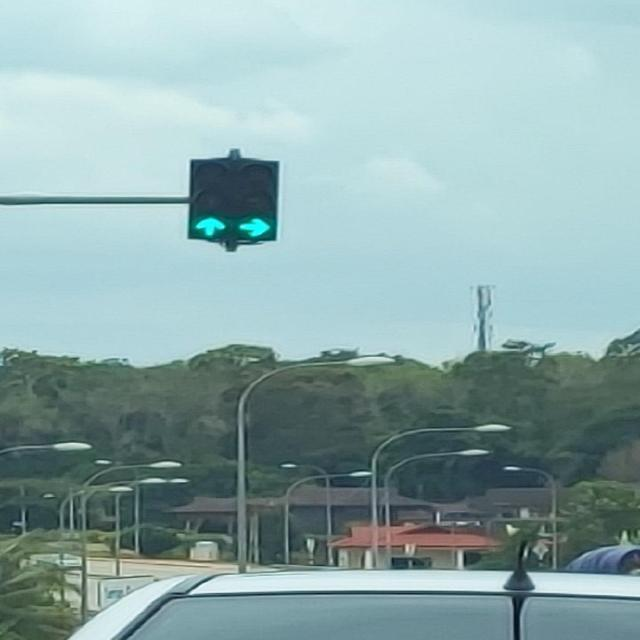green_light: (233, 158, 282, 241), (188, 156, 235, 240)
